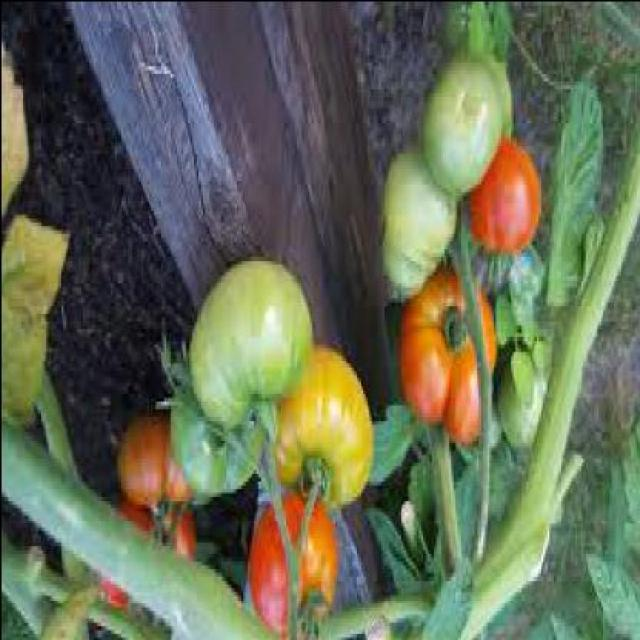BIODEGRADABLE: (190, 260, 312, 428), (276, 346, 374, 506), (400, 268, 481, 446), (169, 360, 264, 501), (384, 152, 456, 299), (422, 62, 502, 194), (470, 139, 540, 253), (119, 415, 191, 507), (500, 339, 551, 448), (250, 505, 288, 634), (300, 502, 338, 604), (164, 481, 196, 559), (119, 496, 154, 533), (282, 492, 305, 543), (482, 292, 495, 369), (99, 578, 129, 609)
